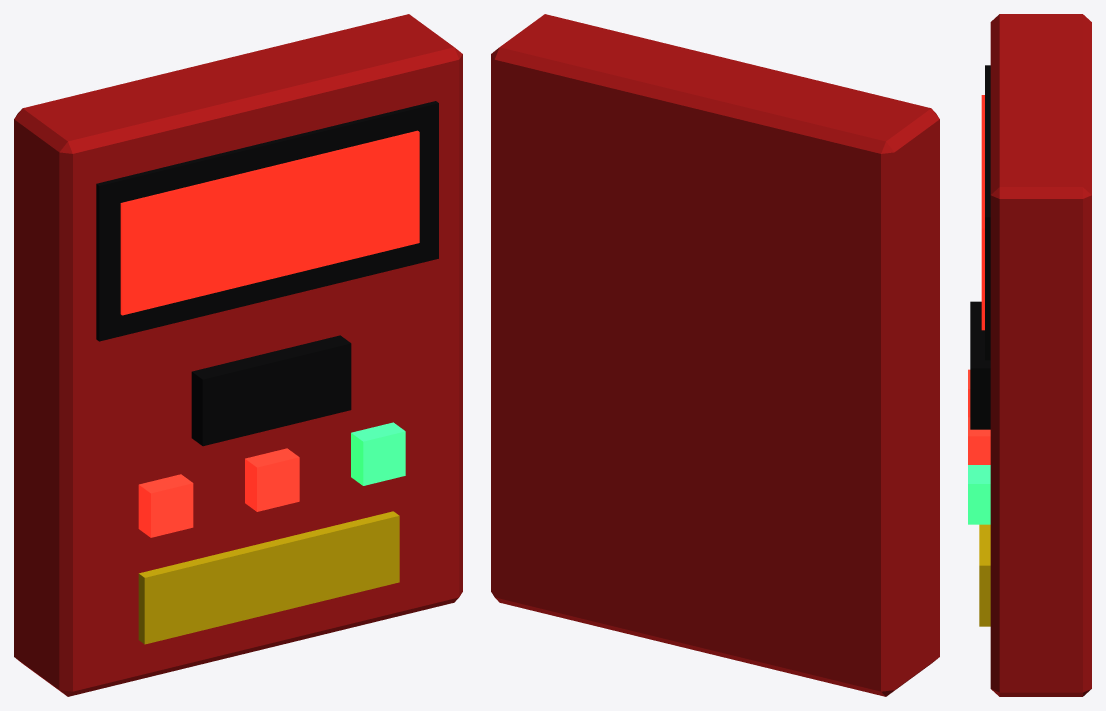
File: alarm_panel.glb
The picture shows the model from 3 angles, left to right: view 1: azimuth 30°, elevation 25°; view 2: azimuth 150°, elevation 25°; view 3: azimuth 270°, elevation 25°; orthographic projection. The views are drawn at different scales.
Visible parts, largest first — view 1: alarm_panel; view 2: alarm_panel; view 3: alarm_panel.
Boxes of the visible parts, <box> form: alarm_panel: <box>14,14,462,696</box>; alarm_panel: <box>491,14,939,696</box>; alarm_panel: <box>968,14,1091,696</box>.
Bounding box in the file's own units: 0.38 × 0.5 × 0.11.
